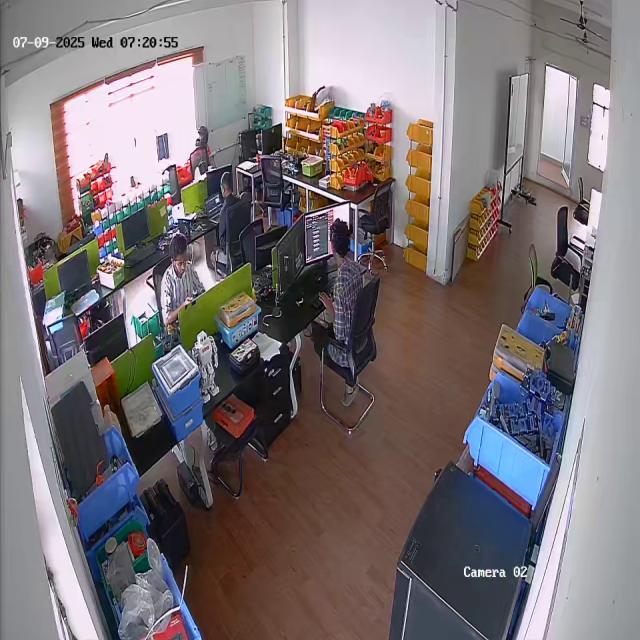person: (316, 218, 370, 396), (156, 233, 207, 332), (209, 172, 248, 268)
